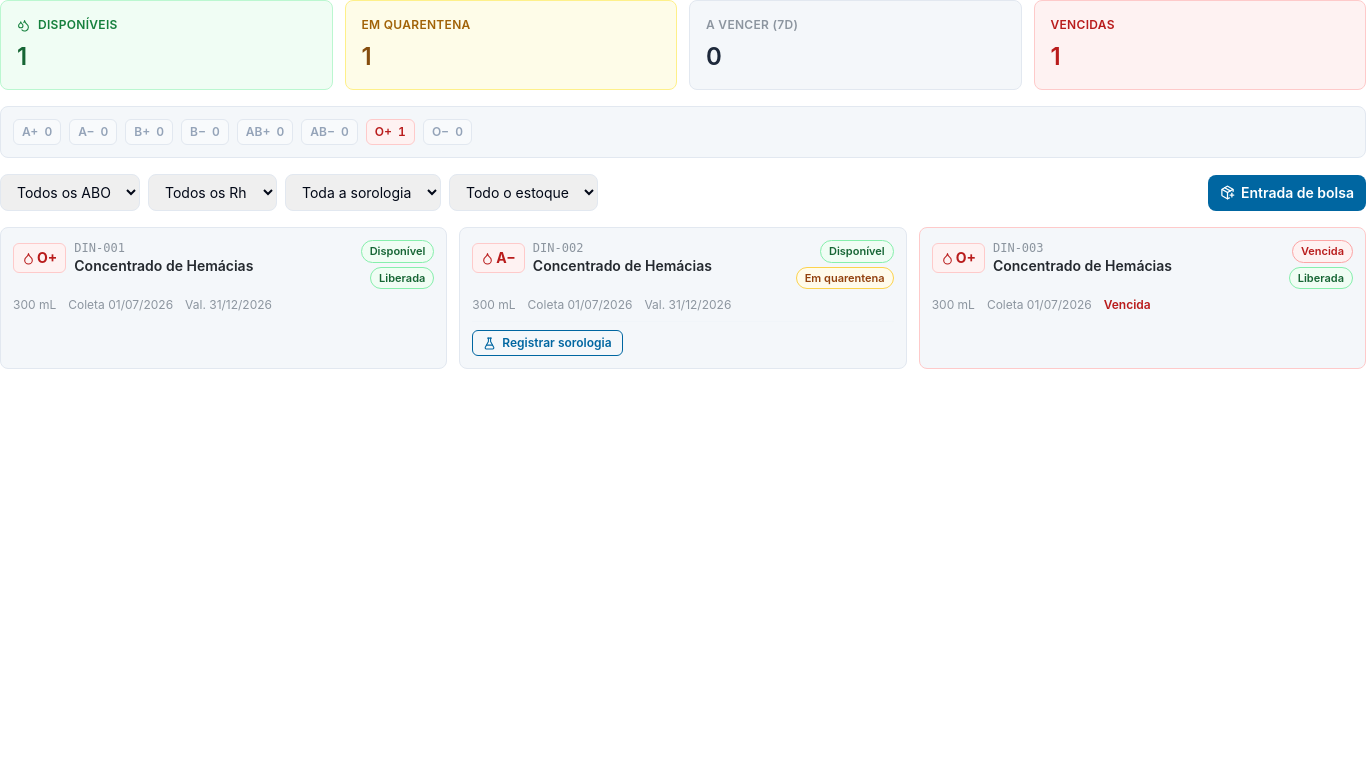
Test: BloodStockBoard › opens the sorologia modal on a quarantined bag with hemoterapia.manage
Check: the text "DIN-002" is shown, box top-left (533, 241), bottom-right (583, 255)
Click the button "Registrar sorologia" at [547, 343], box top-left (472, 330), bottom-right (623, 356)
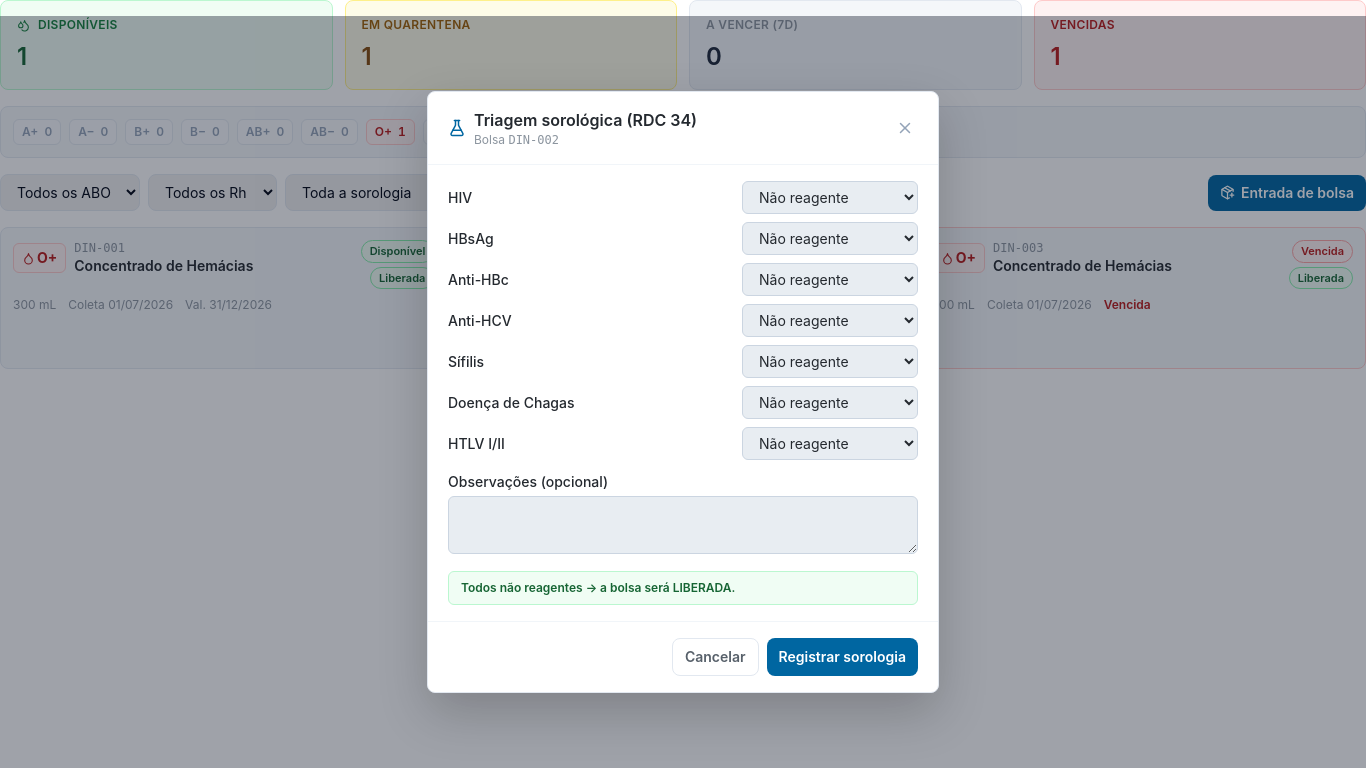
Check: the dialog named "Registrar triagem sorológica" is shown
